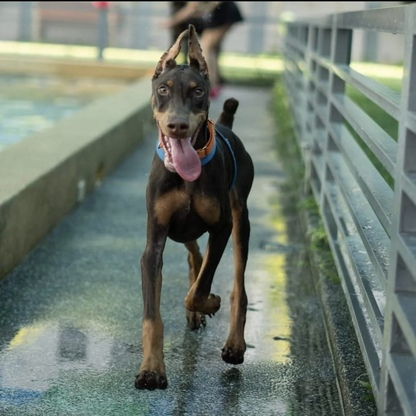doberman: (135, 22, 255, 388)
